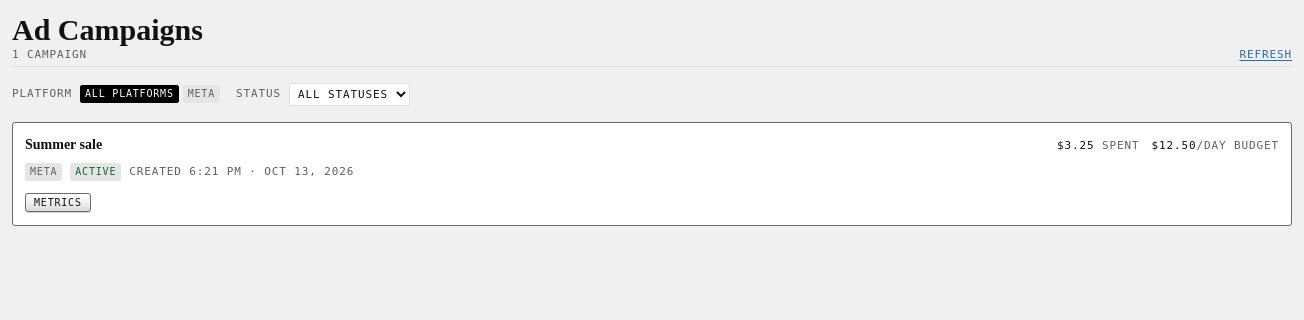
Test: Ads — stored campaign metrics have a real consumer › an empty read says the producer writes these rows, never 'no data'
Expected: the element with test id "campaign-row" is shown, [12, 122, 1292, 226]
Click the button with test id "campaign-metrics-toggle-7".
click(58, 203)  # box [25, 193, 91, 212]
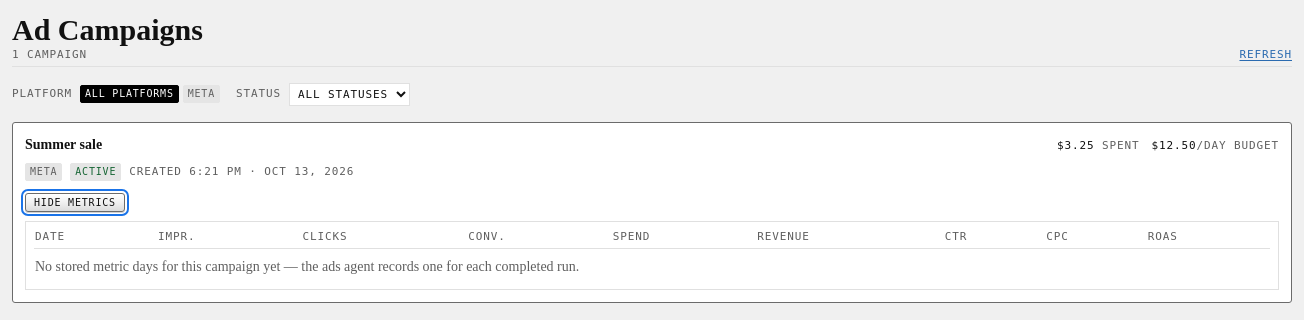
Expected: the element with test id "campaign-metrics-7" shows "No stored metric days", [35, 258, 579, 274]
